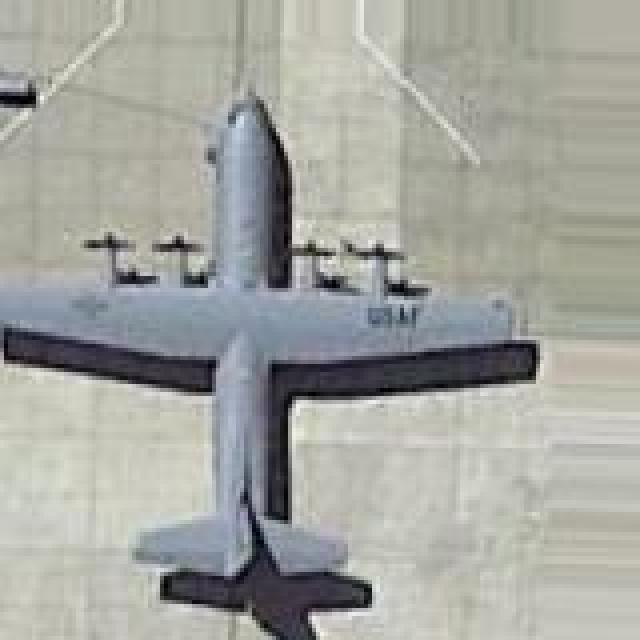C-130_TopDown: (0, 81, 549, 640)
